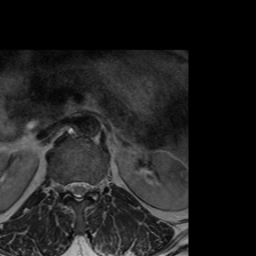CCS_normal: (75, 175, 82, 207)
LFS_stenosis: (90, 177, 96, 198)
LLS_normal: (82, 176, 89, 200)
RFS_normal: (61, 176, 68, 200)
RLS_normal: (68, 176, 75, 201)
